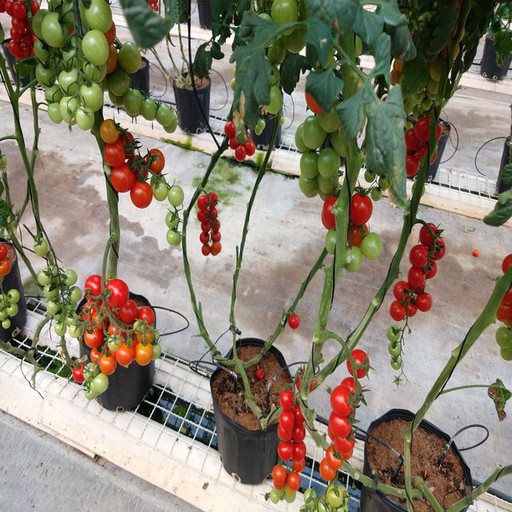green tomato bunch: (45, 1, 111, 130), (229, 1, 302, 115), (104, 39, 178, 130), (296, 110, 351, 201), (38, 265, 79, 339)
mixed tomato bunch: (322, 189, 381, 271)
red tomato bunch: (81, 275, 154, 375), (319, 349, 370, 481), (388, 223, 448, 320), (102, 121, 165, 209), (271, 387, 307, 504), (398, 112, 441, 177), (7, 1, 41, 65), (198, 192, 222, 255), (226, 120, 255, 163)
